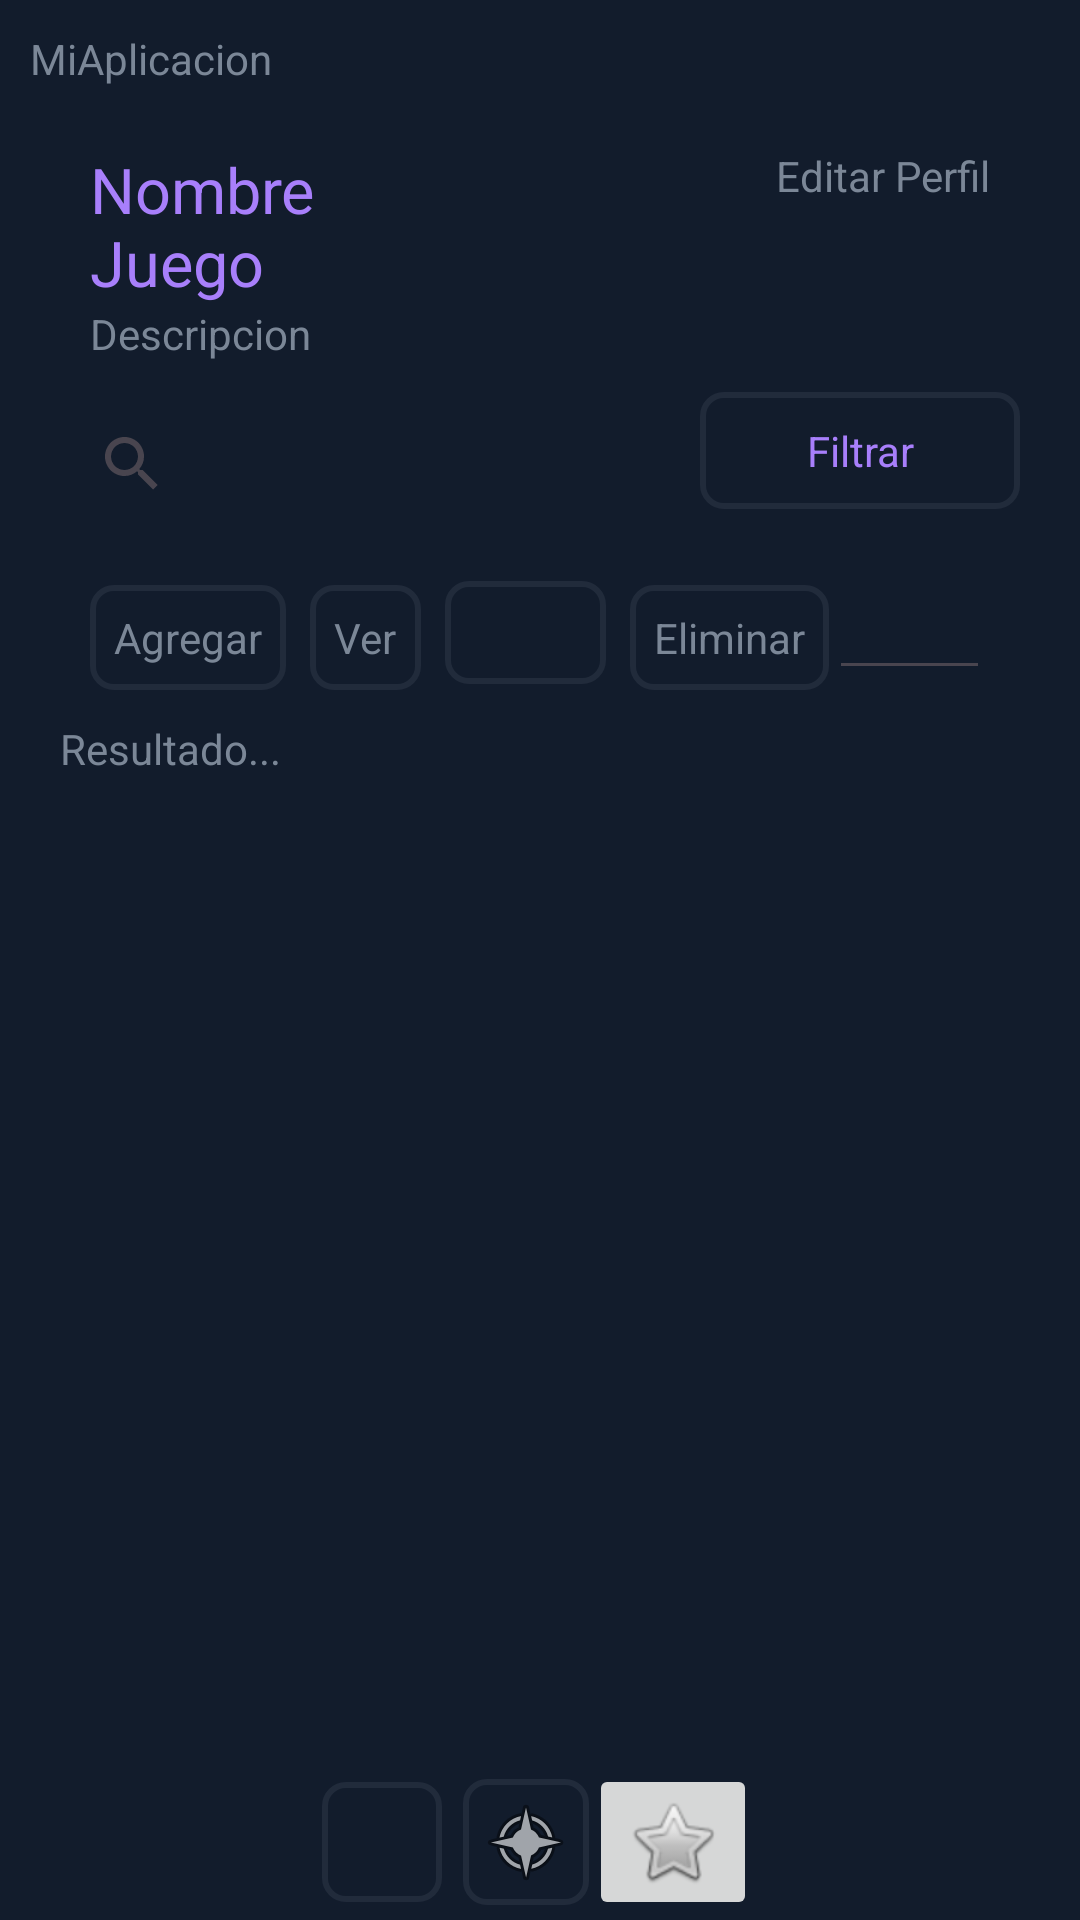

Screen size 1080x1920. Icon name, then its box in pixels as (x1, y1, x2, y2):
compass: (491, 1808, 561, 1878)
star: (601, 1782, 745, 1902)
